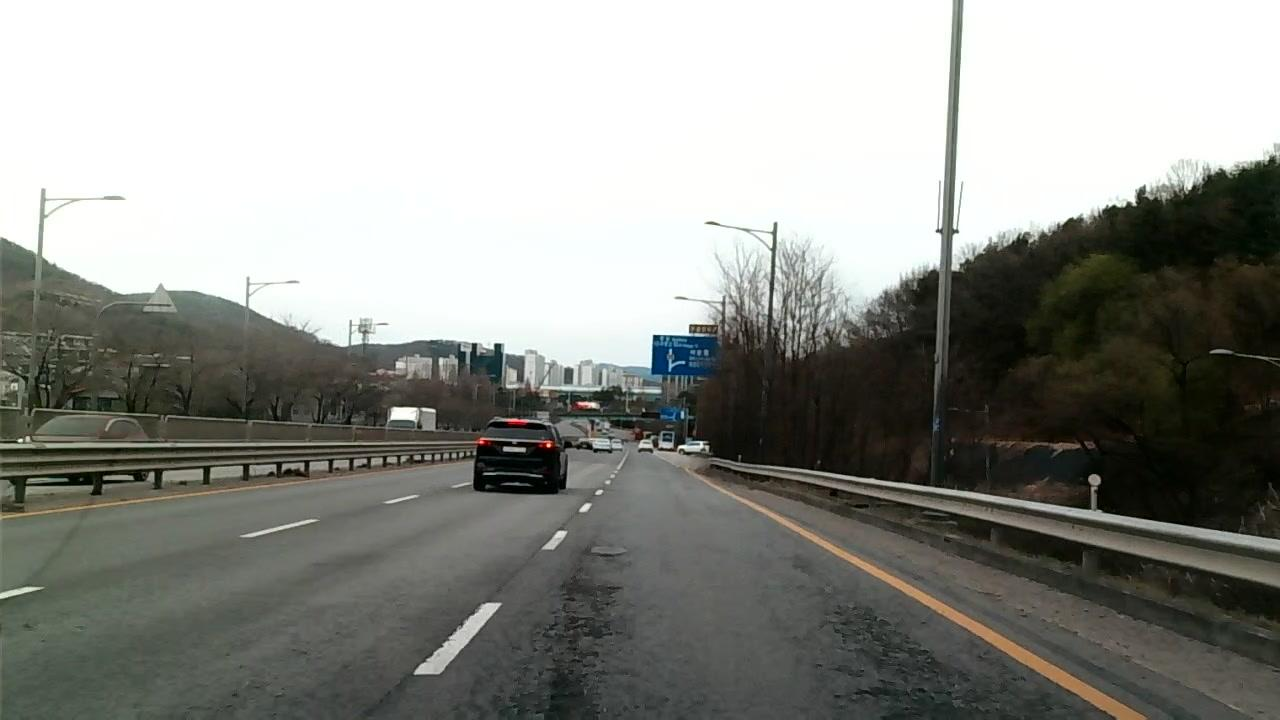erosion: (810, 597, 1053, 720), (497, 545, 625, 720)
